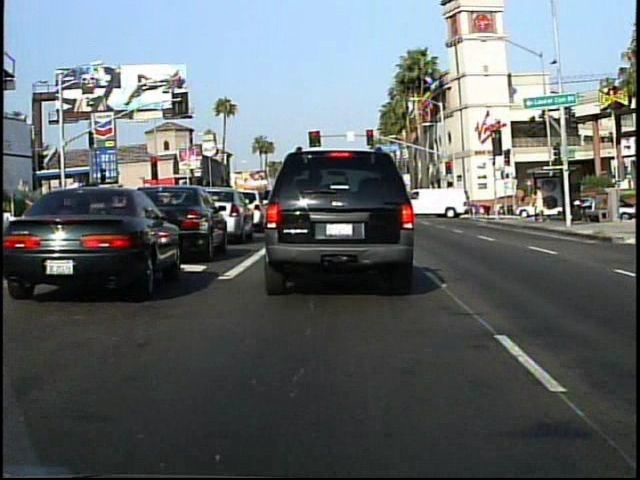person: (531, 183, 548, 225)
